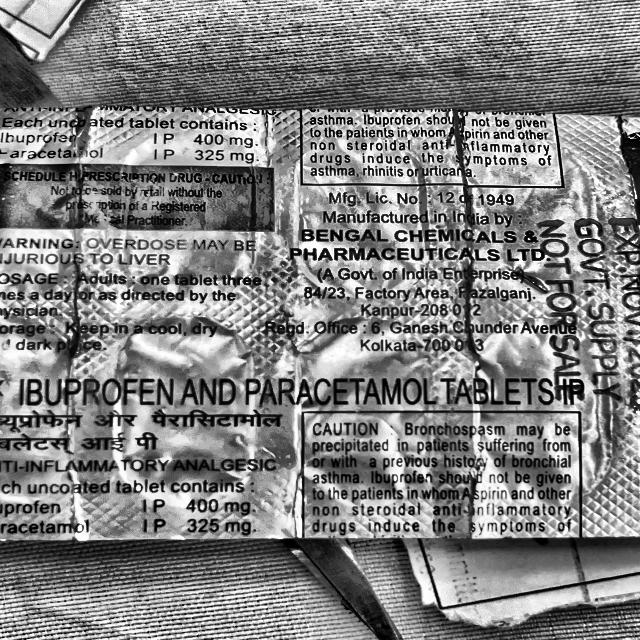Medicine-Name: (0, 363, 610, 428)
